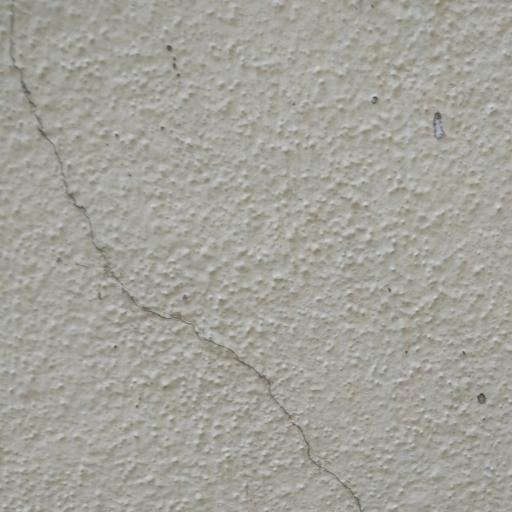minor_crack: (2, 5, 377, 512)
